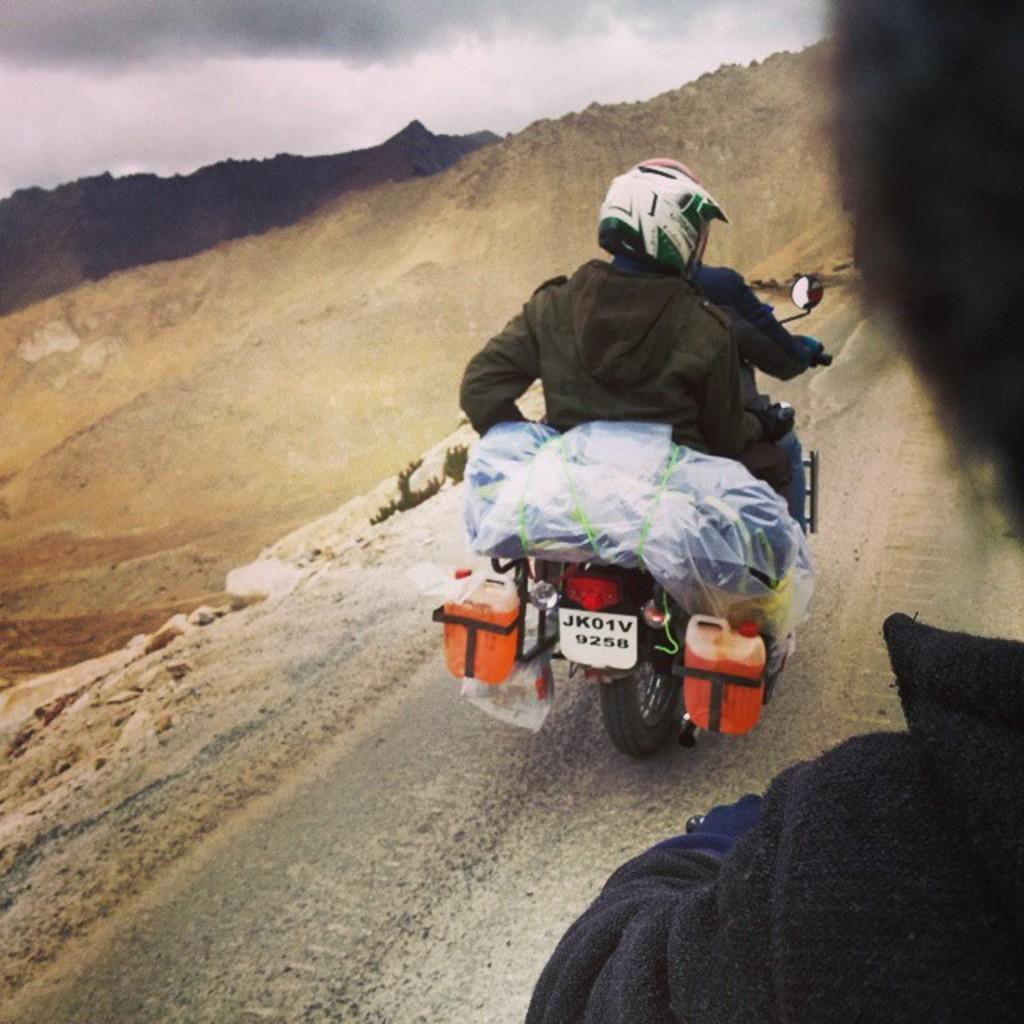helmet: (595, 155, 732, 283)
